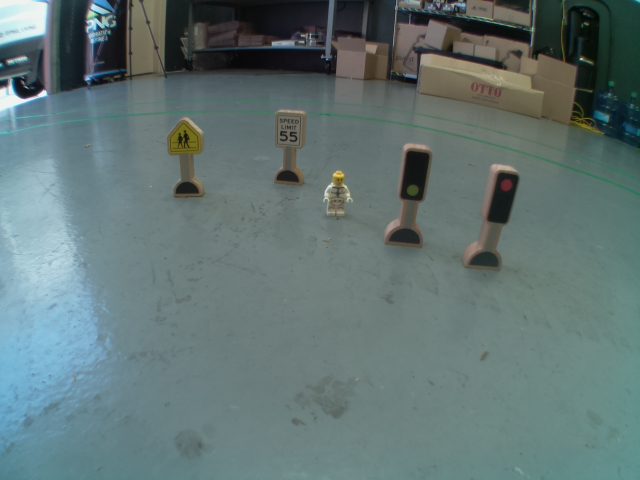Green Traffic Light: (399, 147, 432, 203)
Red Traffic Light: (484, 164, 520, 226)
Speed Limit 55: (276, 110, 304, 151)
YIELD: (159, 114, 205, 159)
person: (323, 169, 356, 221)
